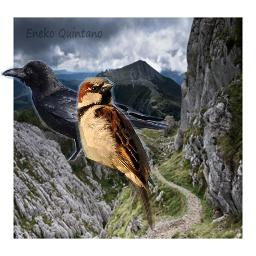Crow: (1, 60, 172, 165)
Swallow: (75, 77, 155, 231)
